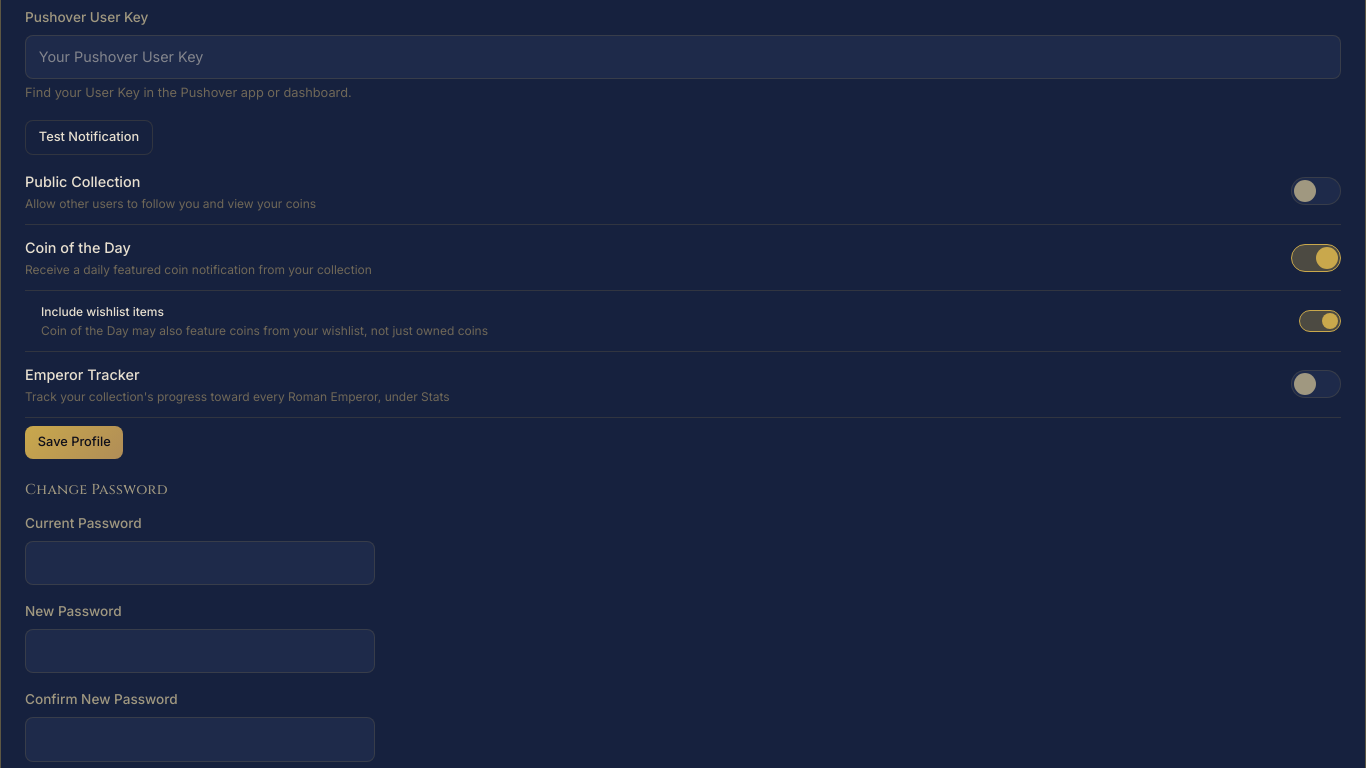
Test: SettingsAccountSection emperor tracker toggles › hides the sub-toggles until the main toggle is enabled
(page scrolled)
Expected: the text "Also track usurpers" is not shown
What coordinates should you click on to do the following:
click the checkbox named "Emperor Tracker"
I would click on:
 (1316, 384)
Its box is [1291,370,1341,398].
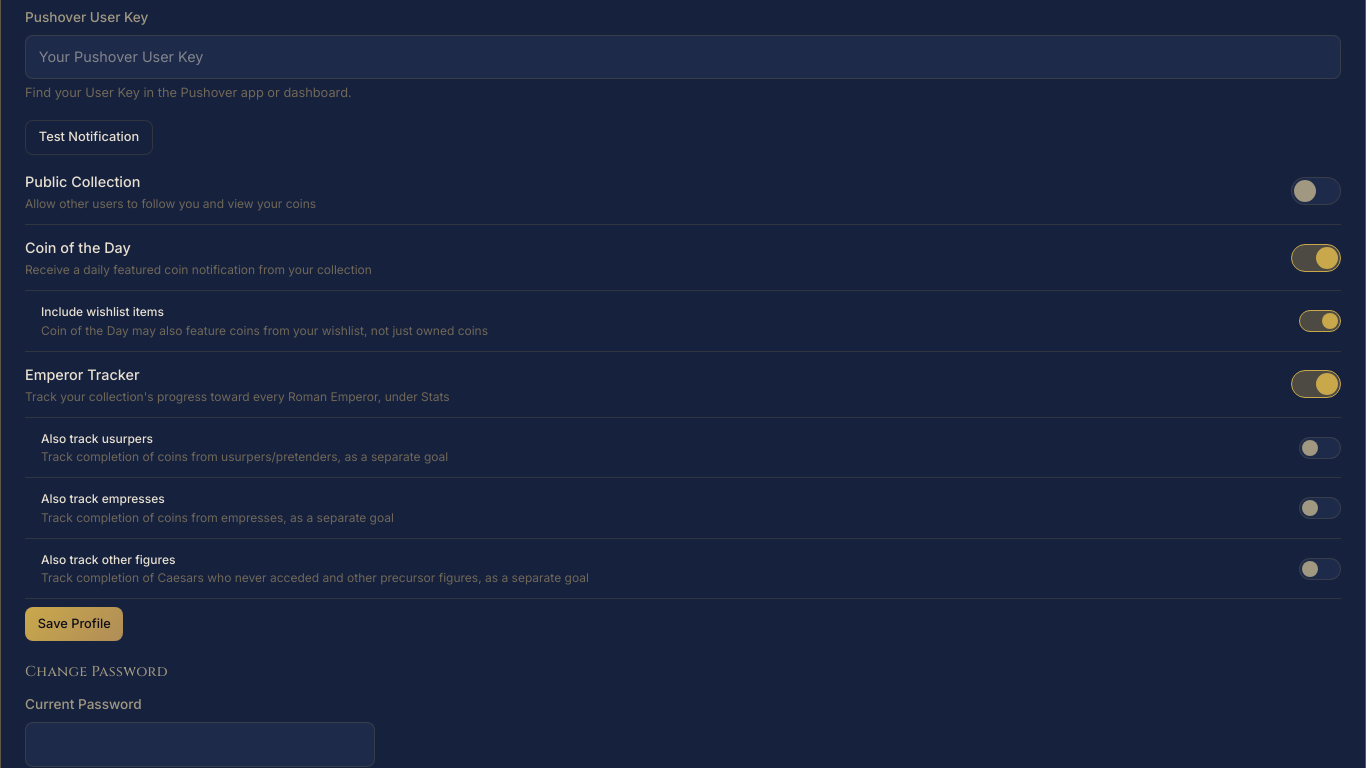
Now the text "Also track usurpers" is shown, box [41,431,153,446]
Now the text "Also track empresses" is shown, box [41,491,165,506]
Now the text "Also track other figures" is shown, box [41,552,175,567]
